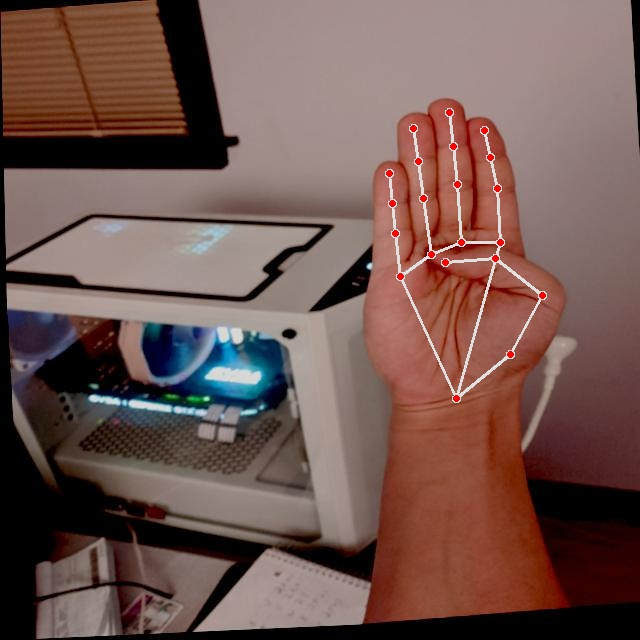B: (340, 88, 577, 425)
